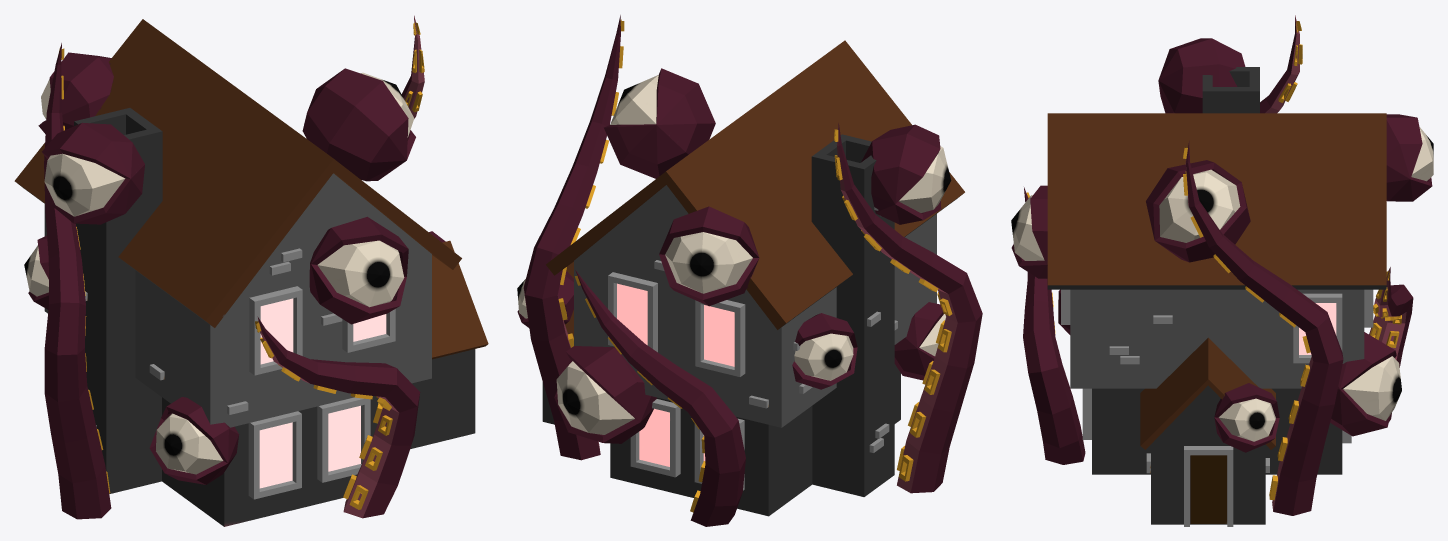
The model's file is Build_1_Tentacles.fbx.
3 renders of one model, left to right at view 1: azimuth 30°, elevation 25°; view 2: azimuth 150°, elevation 25°; view 3: azimuth 270°, elevation 25°, orthographic. The views are drawn at different scales.
Visible parts, largest first — view 1: No_Madness.021; view 2: No_Madness.021; view 3: No_Madness.021.
Boxes of the visible parts, x1,y1,x2,y2 form: No_Madness.021: (14,15,488,526); No_Madness.021: (517,15,982,526); No_Madness.021: (1011,15,1433,526).
Bounding box in the file's own units: 5.29 × 4.74 × 4.87.
